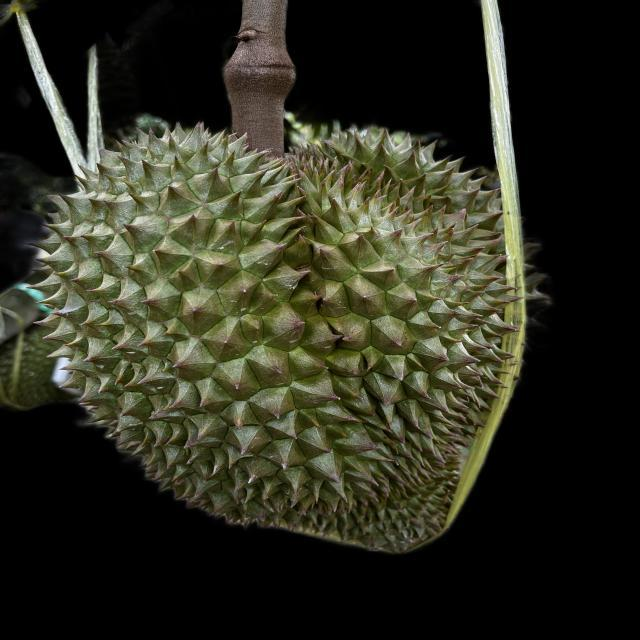immature: (30, 124, 512, 556)
